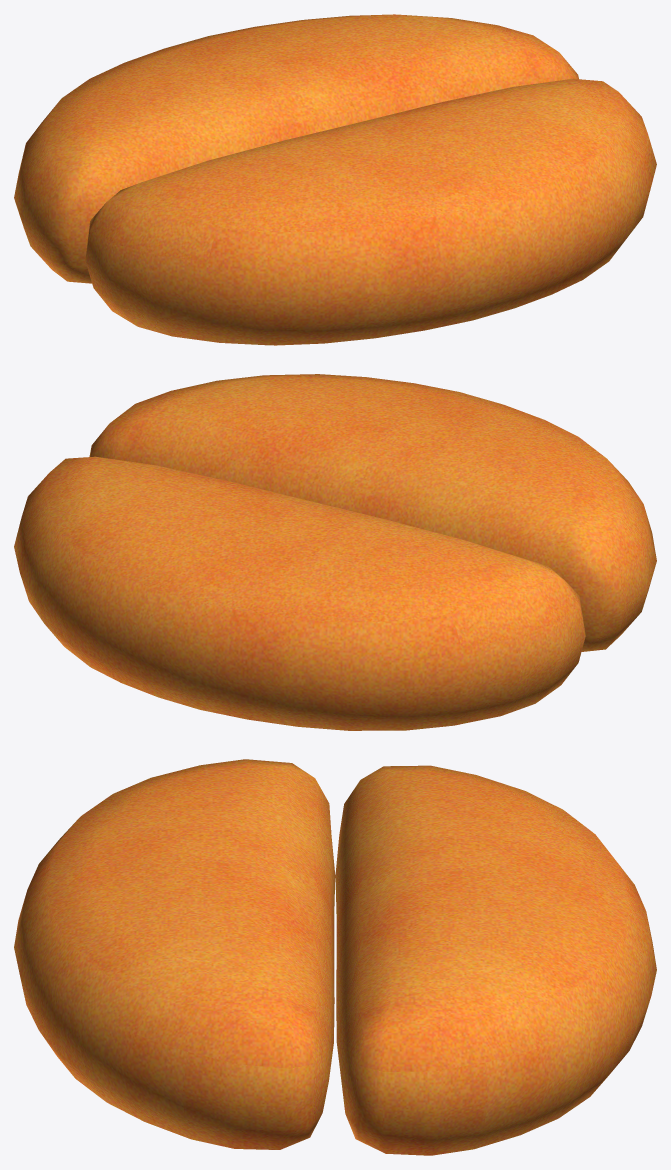
Rendered from Stomata.fbx.
The picture shows the model from 3 angles, top to bottom: view 1: azimuth 30°, elevation 25°; view 2: azimuth 150°, elevation 25°; view 3: azimuth 270°, elevation 25°; orthographic projection. The views are drawn at different scales.
Parts seen in each view (by area): view 1: Stomata10; view 2: Stomata10; view 3: Stomata10.
Boxes of the visible parts, box(x1,y1,x2,y2) form: Stomata10: box(14, 14, 656, 345); Stomata10: box(14, 374, 656, 730); Stomata10: box(14, 759, 656, 1155).
Bounding box in the file's own units: 12.79 × 3.92 × 11.86.
